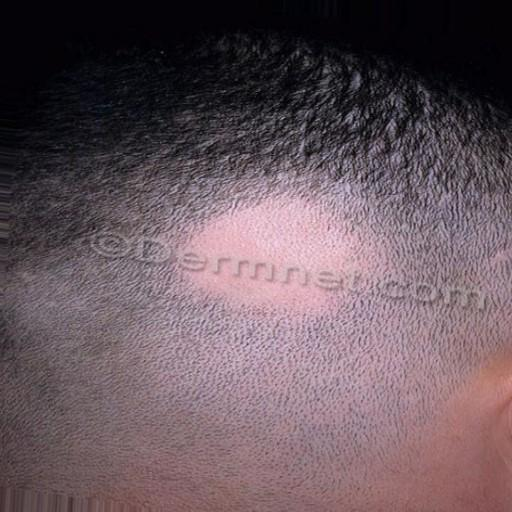Alopecia Areata: (176, 164, 378, 335)
